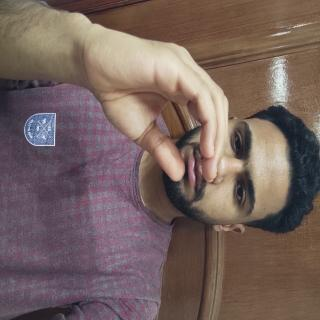JEEM: (14, 115, 139, 320)
